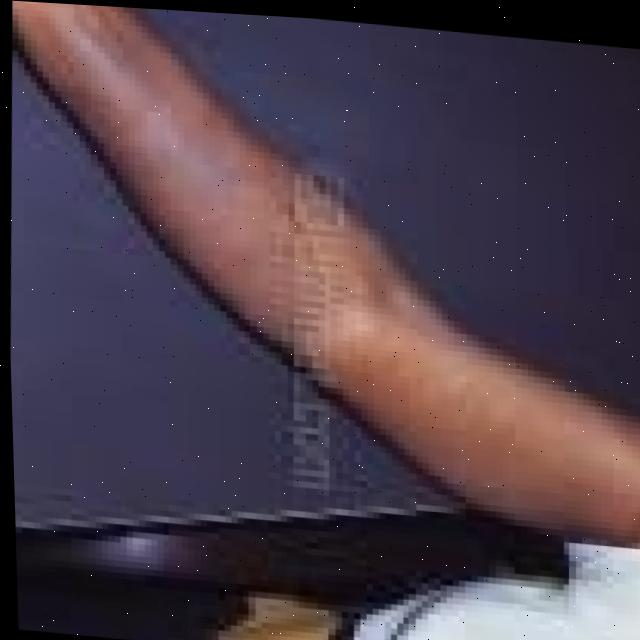Melasma: (18, 1, 335, 350)
